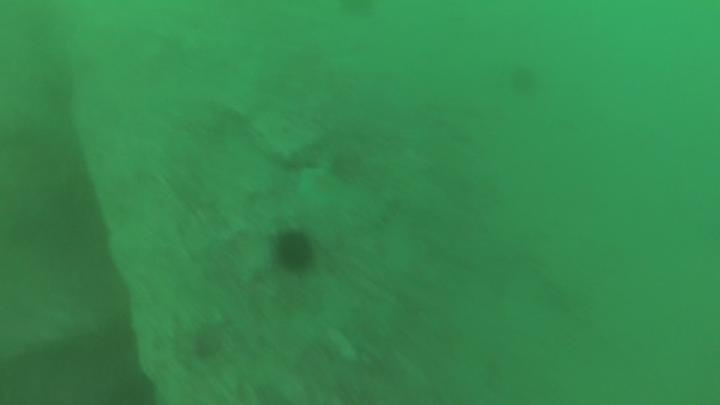echinus: (270, 227, 318, 277), (506, 62, 541, 97)
